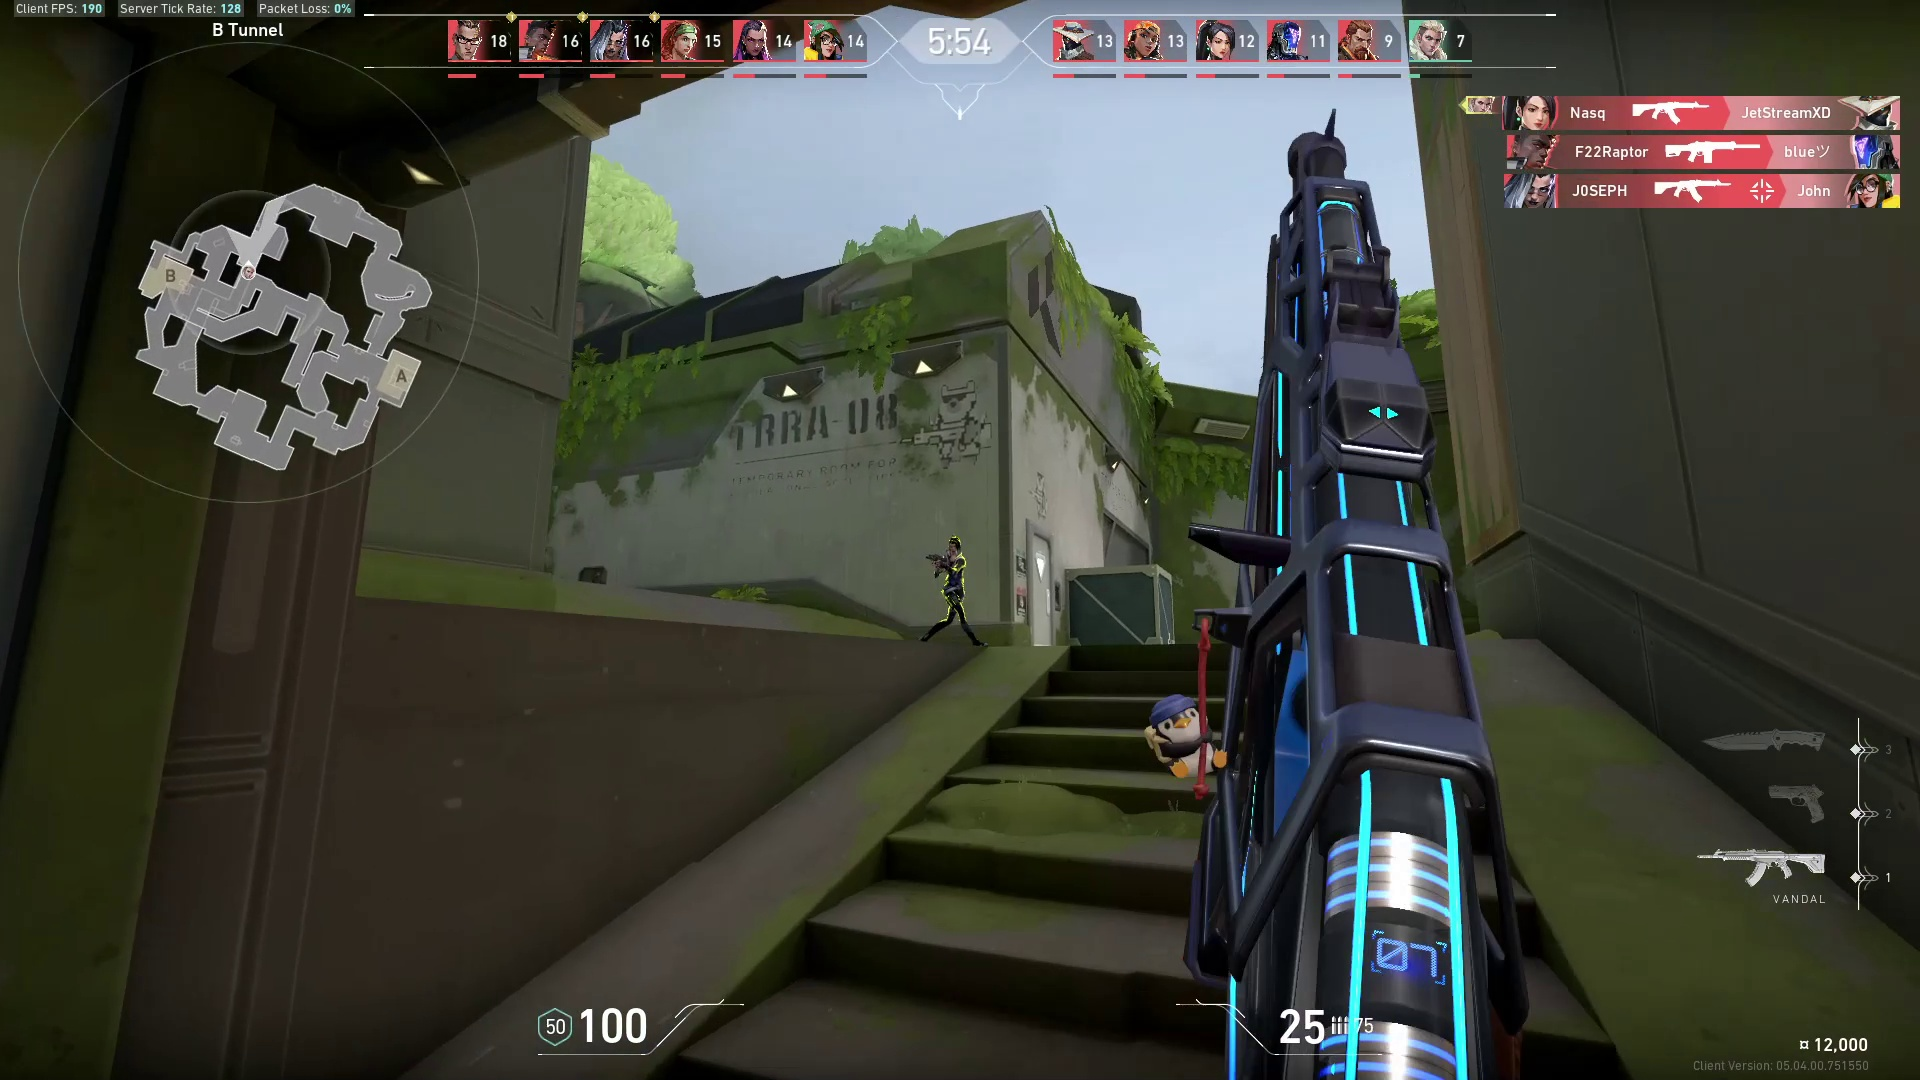enemy_body: (928, 554, 995, 650)
enemy_head: (943, 530, 969, 559)
